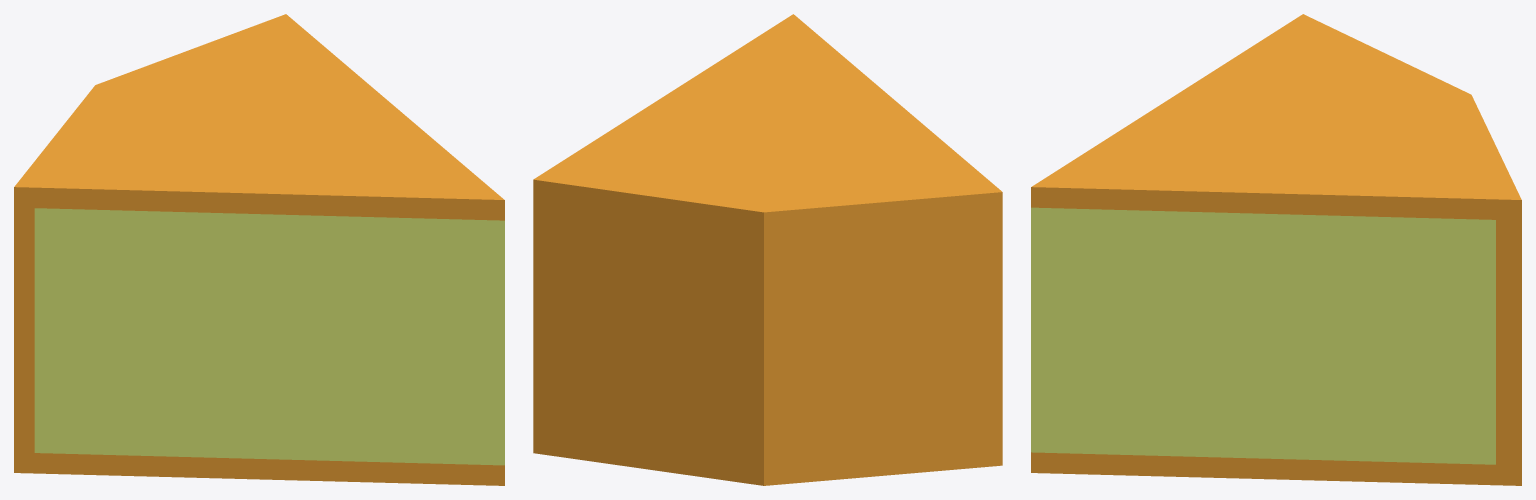
File: Cheese.fbx
3 views of the same model, side by side, from view 1: azimuth 30°, elevation 25°; view 2: azimuth 150°, elevation 25°; view 3: azimuth 270°, elevation 25° (orthographic). The views are drawn at different scales.
Visible parts, largest first — view 1: Cheese; view 2: Cheese; view 3: Cheese.
Part boxes in pixels (x1=…): Cheese: x1=14, y1=14, x2=504, y2=485; Cheese: x1=533, y1=14, x2=1002, y2=485; Cheese: x1=1031, y1=14, x2=1521, y2=485.
Size of the model in its own units: 95.73 by 61.53 by 85.9.
